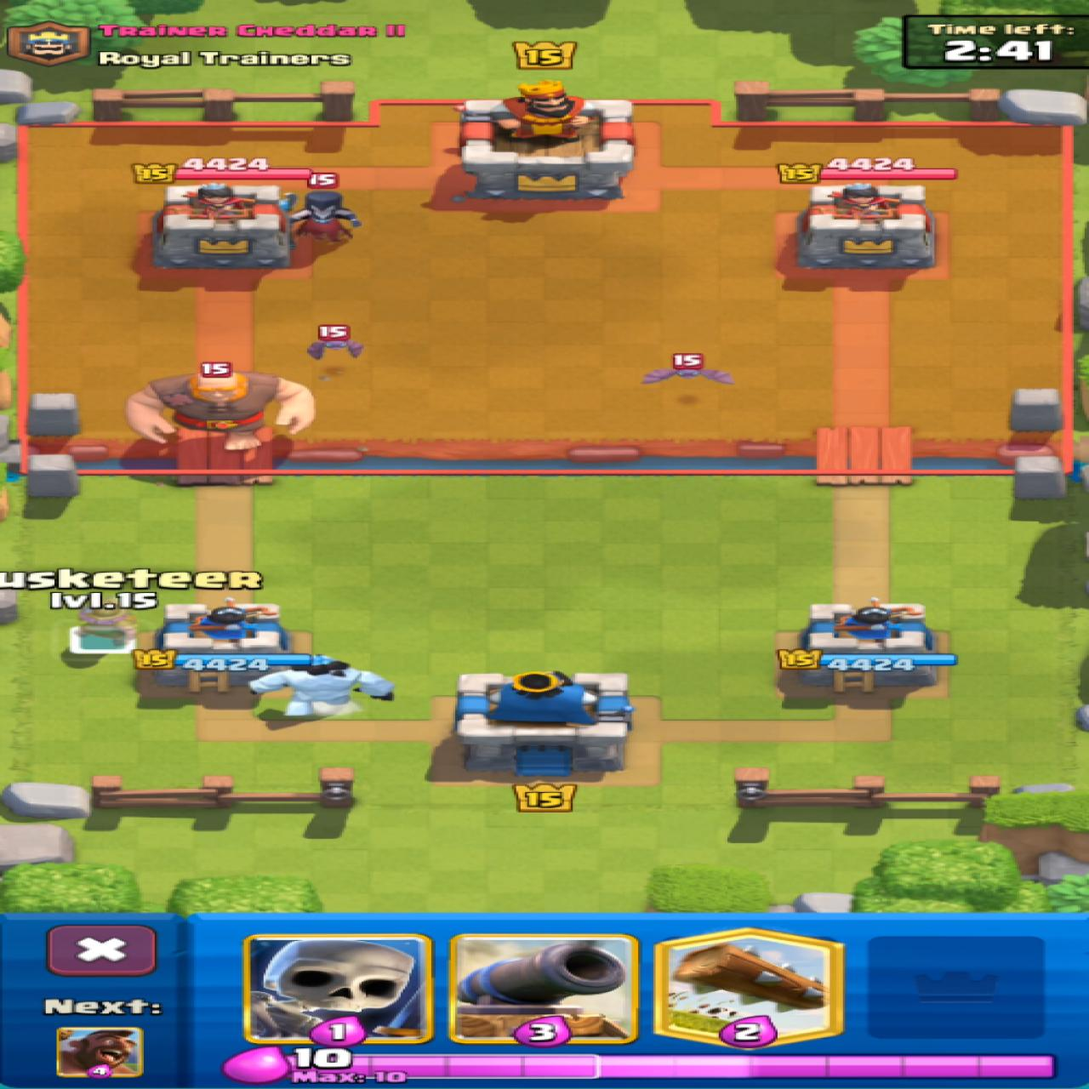Enemy-Bat: (643, 353, 732, 383), (307, 326, 362, 359)
Enemy-Giant: (129, 373, 311, 449)
Enemy-KingTower: (457, 79, 632, 198)
Enemy-NightWitch: (279, 191, 357, 247)
Enemy-PrincessTower: (797, 183, 934, 268), (155, 183, 287, 268)
